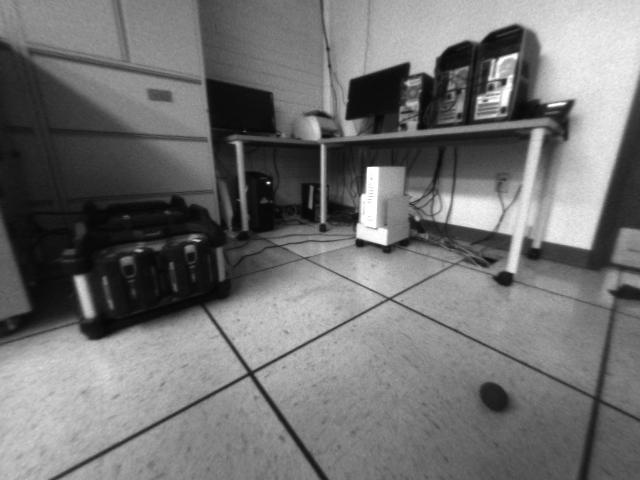dogtoy: (472, 377, 515, 419)
